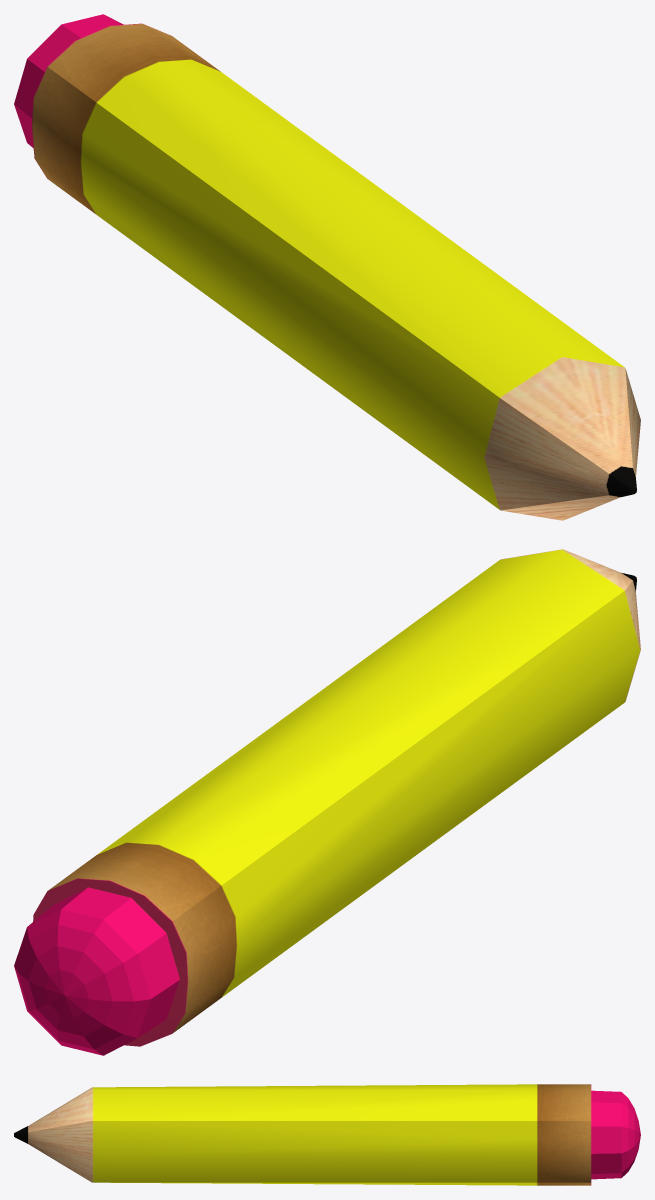
The model's file is Lapiz.fbx.
3 views of the same model, one above another, from view 1: azimuth 30°, elevation 25°; view 2: azimuth 150°, elevation 25°; view 3: azimuth 270°, elevation 25° (orthographic). The views are drawn at different scales.
Parts seen in each view (by area): view 1: polySurface1; view 2: polySurface1; view 3: polySurface1.
Part boxes in pixels (<box>): polySurface1: <box>14,14,640,520</box>; polySurface1: <box>14,549,640,1055</box>; polySurface1: <box>14,1084,640,1185</box>.
Size of the model in its own units: 5.85 by 5.85 by 37.
